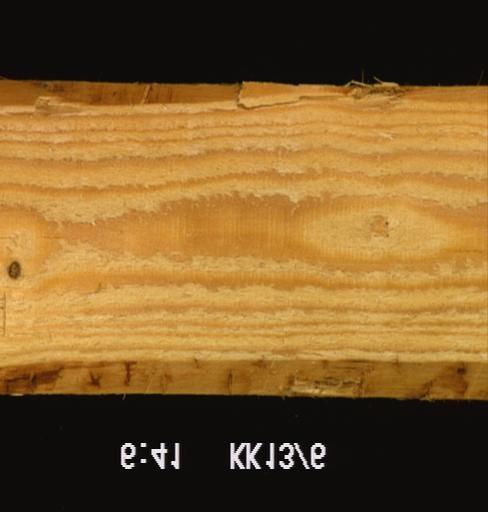dry_knot: (2, 258, 23, 283)
wave: (0, 352, 485, 400), (0, 77, 441, 127)
